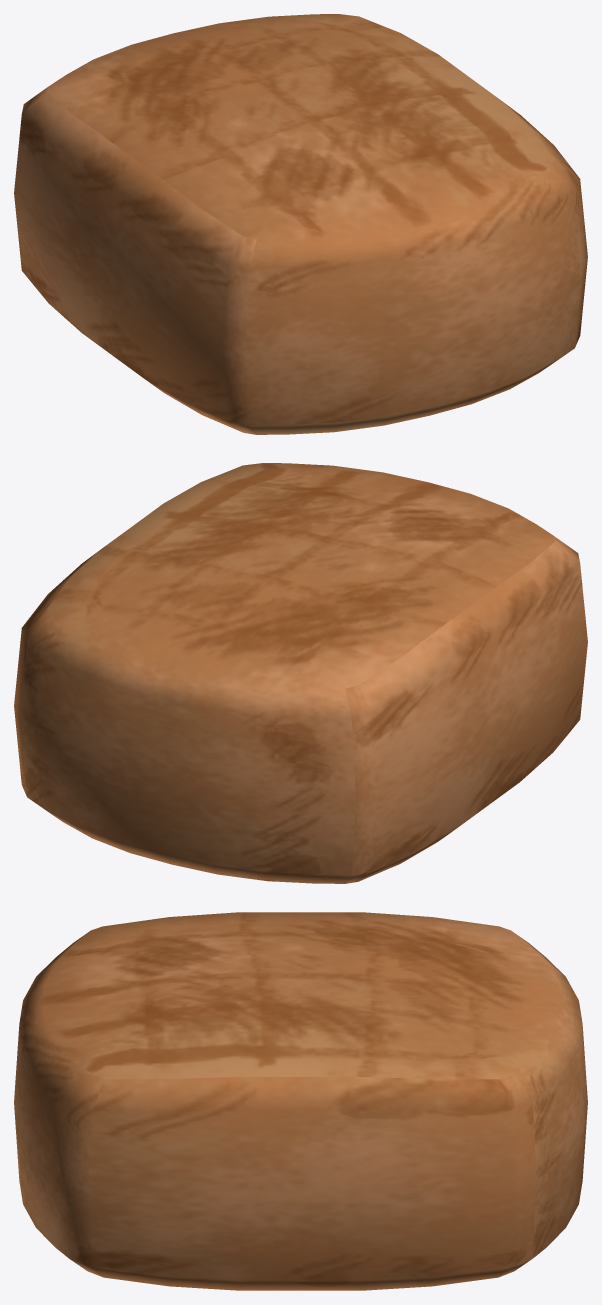
File: Hamburg.fbx
3 views of the same model, one above another, from view 1: azimuth 30°, elevation 25°; view 2: azimuth 150°, elevation 25°; view 3: azimuth 270°, elevation 25° (orthographic).
Parts seen in each view (by area): view 1: Hamburg; view 2: Hamburg; view 3: Hamburg.
Part boxes in pixels (left/top/right/bottom): Hamburg: left=14, top=14, right=587, bottom=434; Hamburg: left=14, top=463, right=587, bottom=883; Hamburg: left=14, top=912, right=587, bottom=1290.
Bounding box in the file's own units: 221 × 128 × 277.
Materials: 1 (1 with a texture image).
